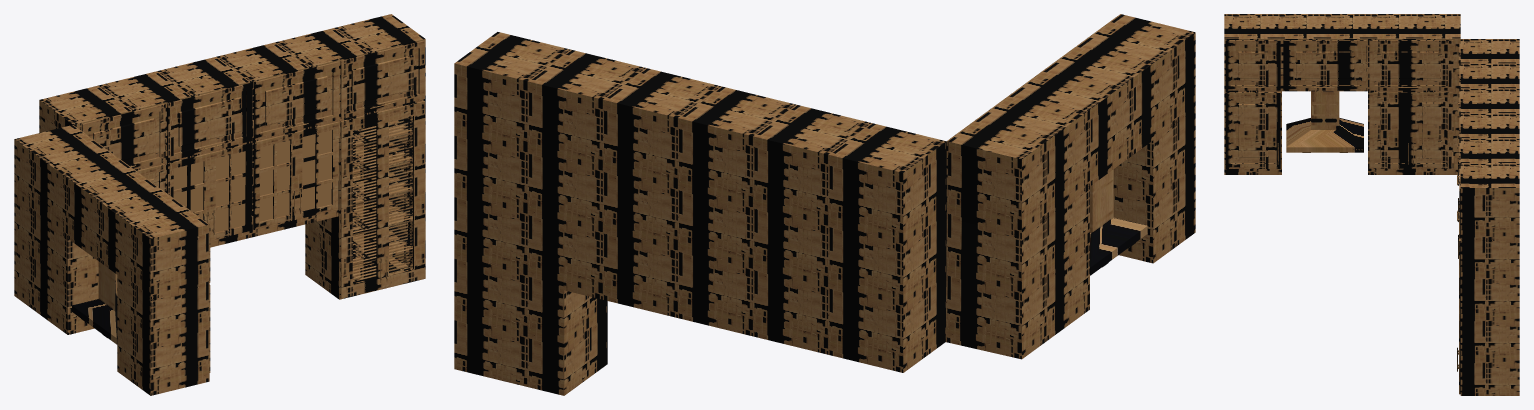
File: cabinv4.gltf
The picture shows the model from 3 angles, left to right: view 1: azimuth 30°, elevation 25°; view 2: azimuth 150°, elevation 25°; view 3: azimuth 270°, elevation 25°; orthographic projection. The views are drawn at different scales.
Visible parts, largest first — view 1: 18; view 2: 18; view 3: 18.
Boxes of the visible parts, bbox=[...] form: 18: bbox=[14, 14, 425, 395]; 18: bbox=[454, 14, 1195, 395]; 18: bbox=[1224, 14, 1519, 395].
Bounding box in the file's own units: 14.28 × 7.96 × 10.24.
Materials: 1 (1 with a texture image).
